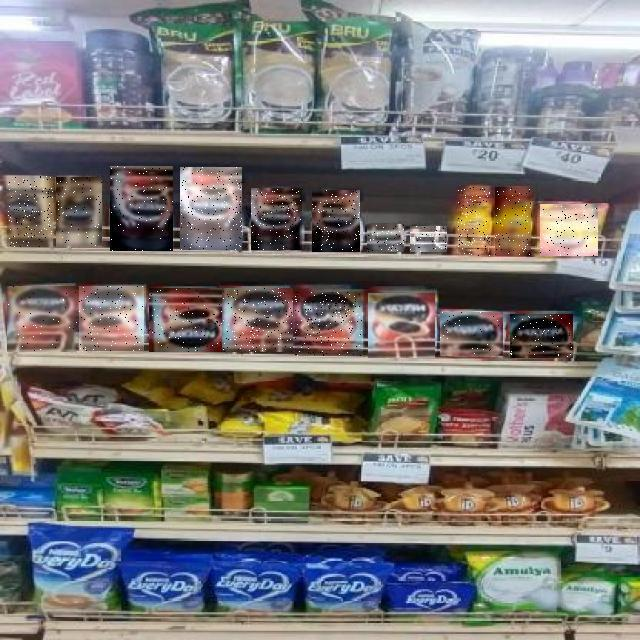Coffee: (110, 166, 173, 251), (180, 167, 242, 250), (149, 288, 222, 352), (8, 286, 78, 352), (221, 288, 293, 352), (368, 293, 435, 358), (295, 292, 362, 356), (79, 286, 144, 351), (7, 176, 53, 247), (252, 188, 304, 250), (56, 178, 102, 248), (540, 204, 598, 256), (312, 190, 360, 252), (440, 312, 503, 356), (510, 314, 573, 358), (495, 187, 531, 256), (458, 187, 490, 256), (367, 225, 404, 253), (410, 226, 447, 252)
